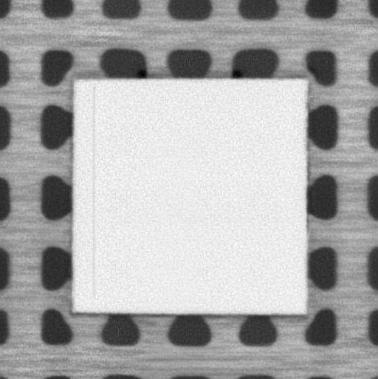DIE_CRACK: (87, 84, 101, 299)
